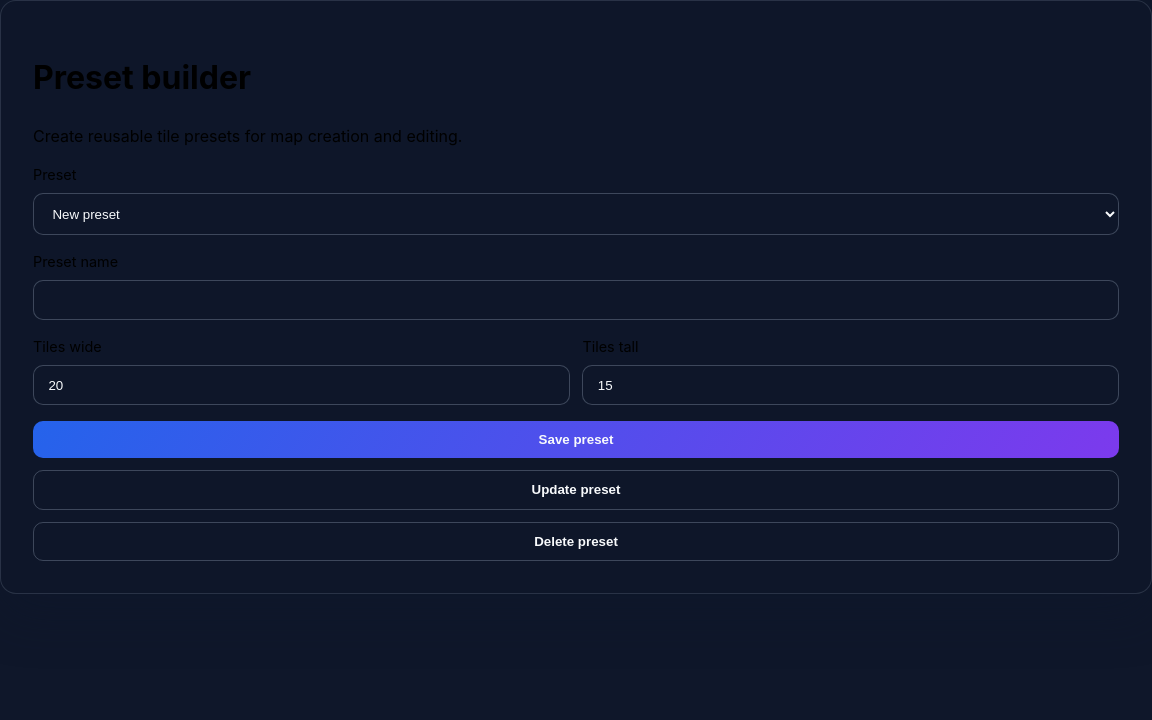
Test case: PresetBuilder › loads presets and allows selection
The image size is (1152, 720).
Expected: the heading "Preset builder" is shown, [33,58,251,97]
Select "Village" in the dropdown labelled "Preset" at (576, 214), box [33,194,1119,235]
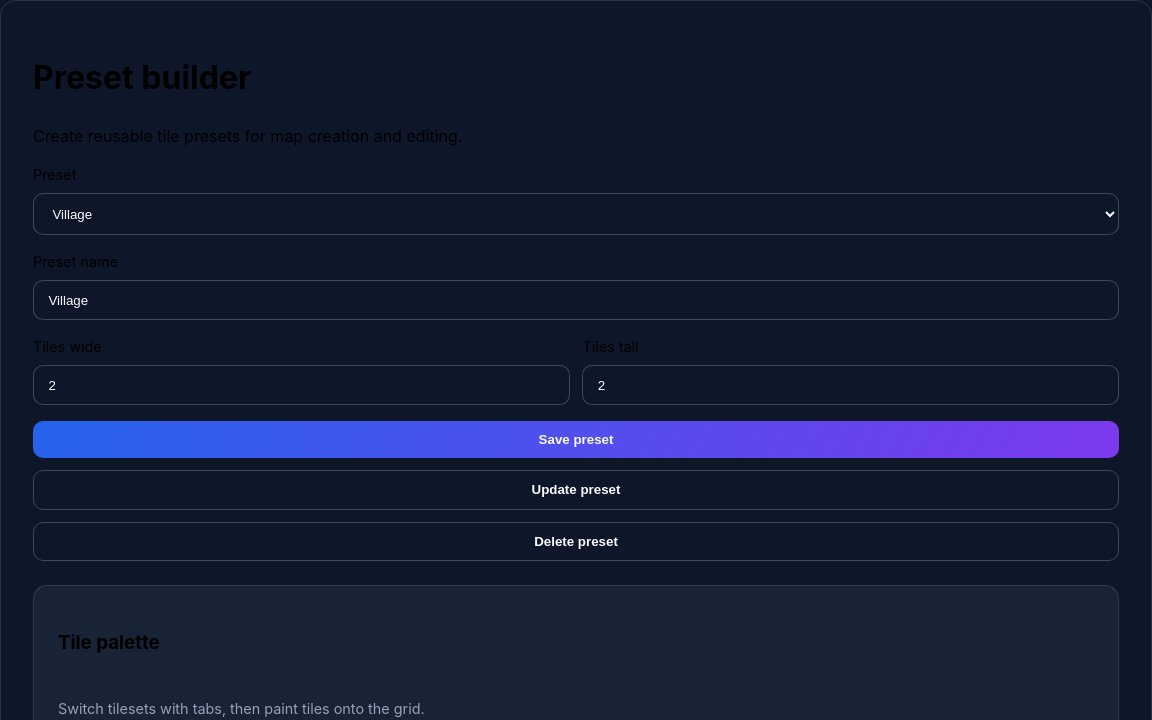
Expected: the field labelled "Preset name" holds "Village", [33,280,1119,320]
